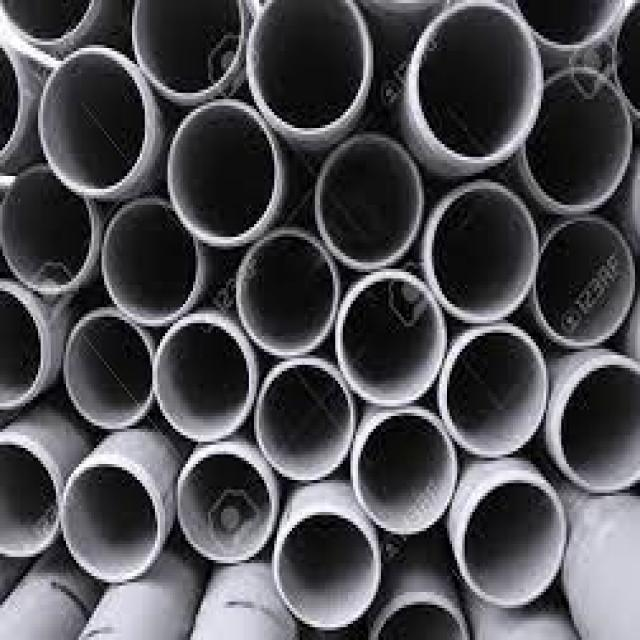pipe: (416, 1, 539, 162), (250, 0, 367, 131), (42, 51, 146, 190), (171, 103, 276, 240), (524, 70, 629, 206), (431, 187, 535, 315), (443, 328, 547, 454), (340, 274, 440, 402), (534, 217, 632, 347), (462, 479, 563, 604), (320, 136, 419, 263), (239, 234, 341, 356), (0, 168, 96, 291), (357, 412, 453, 530), (102, 202, 197, 321), (277, 510, 375, 625), (158, 318, 251, 436), (64, 460, 158, 576), (134, 0, 244, 98), (558, 362, 640, 490), (259, 363, 353, 473), (179, 451, 270, 558), (66, 312, 153, 423), (0, 441, 60, 555), (0, 291, 42, 405)
